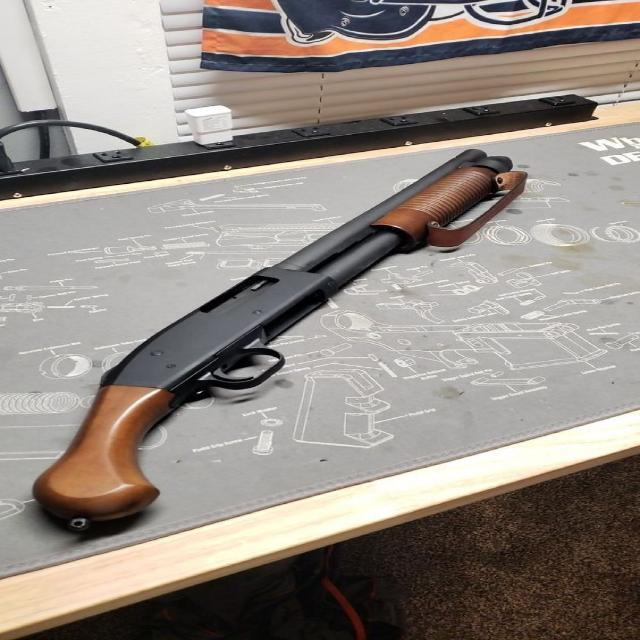shotgun: (24, 132, 618, 548)
